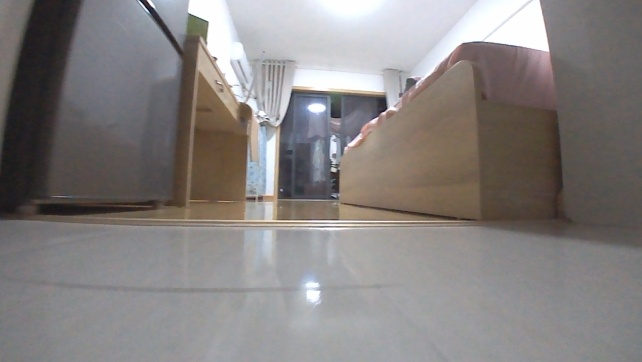bed1: (332, 37, 568, 225)
refrigerator: (0, 0, 190, 218)
